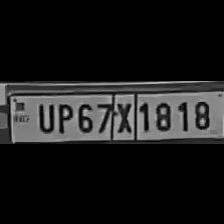1: (173, 96, 191, 132), (133, 97, 151, 132)
6: (74, 100, 94, 132)
7: (95, 99, 113, 134)
8: (150, 97, 174, 131), (188, 96, 212, 130)
P: (54, 99, 74, 133)
U: (33, 100, 55, 132)
X: (113, 97, 133, 133)
